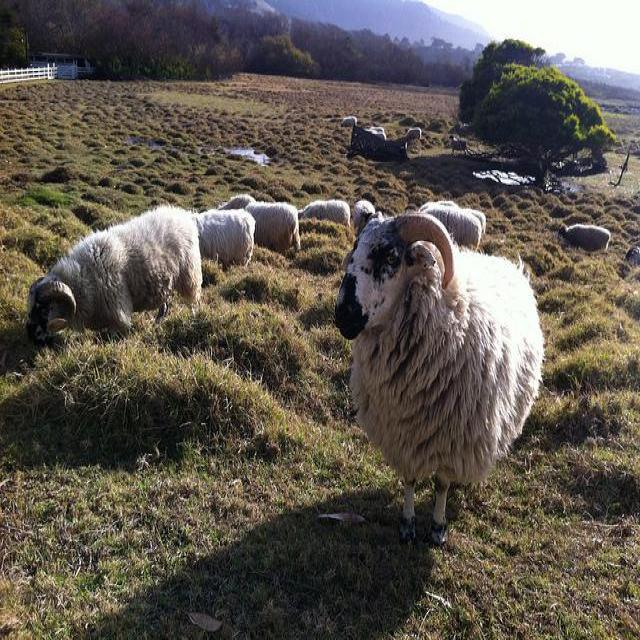Sheep: (336, 205, 550, 546), (23, 205, 203, 347), (140, 204, 257, 269), (220, 194, 301, 253), (421, 202, 482, 250)
